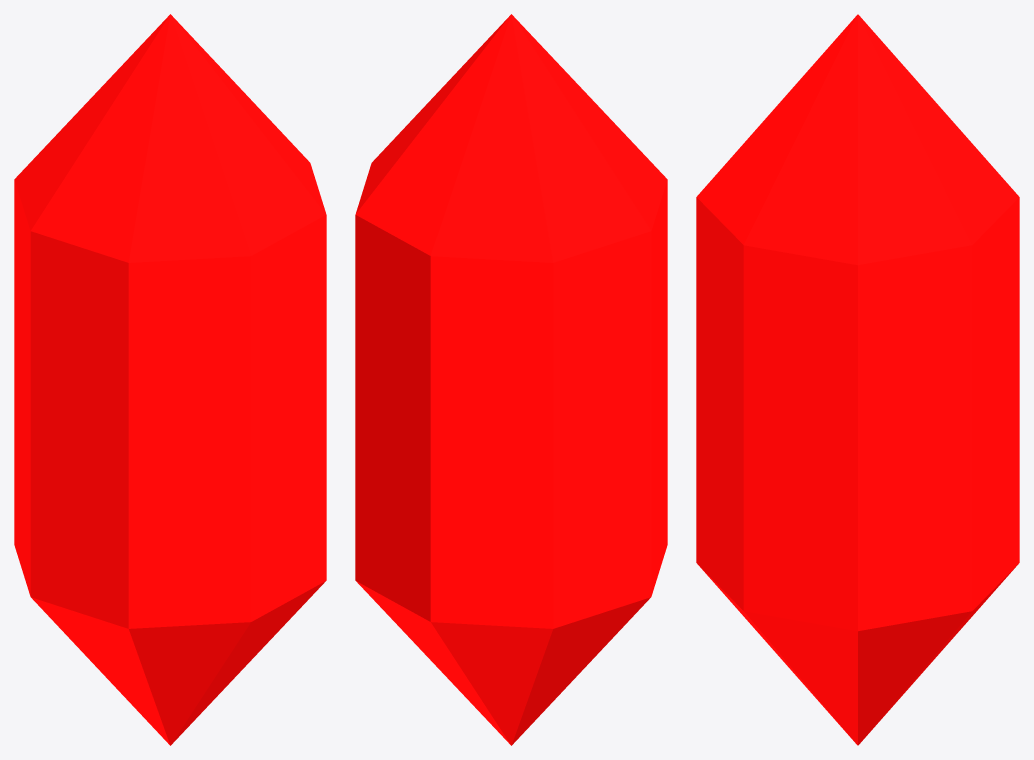
File: DarkShard.glb
3 renders of one model, left to right at view 1: azimuth 30°, elevation 25°; view 2: azimuth 150°, elevation 25°; view 3: azimuth 270°, elevation 25°, orthographic.
Visible parts, largest first — view 1: Shard-col; view 2: Shard-col; view 3: Shard-col.
Boxes of the visible parts, x1,y1,x2,y2 form: Shard-col: (14, 14, 326, 745); Shard-col: (355, 14, 667, 745); Shard-col: (696, 14, 1019, 745).
Bounding box in the file's own units: 0.4 × 1 × 0.4.
